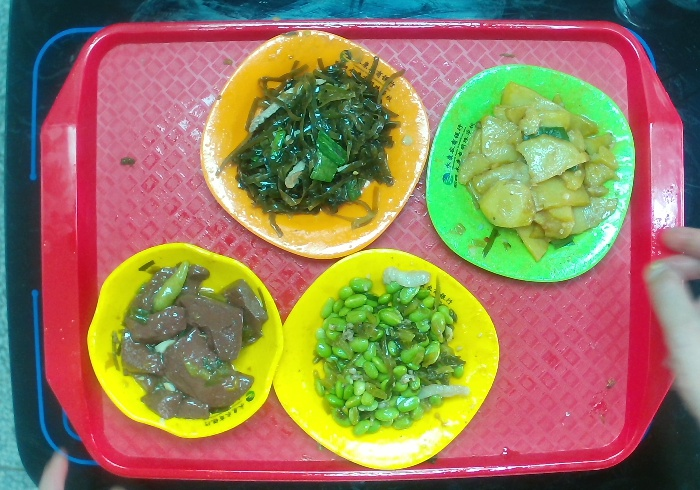YKMZ-Huang_Se_Ao_Bian_Wan: (79, 236, 293, 444)
YKMZ-Huang_Se_Fang_Die: (273, 243, 508, 478)
YKMZ-Ju_Se_Fang_Die: (194, 26, 437, 266)
YKMZ-Lv_Se_Fang_Die: (424, 60, 646, 288)
